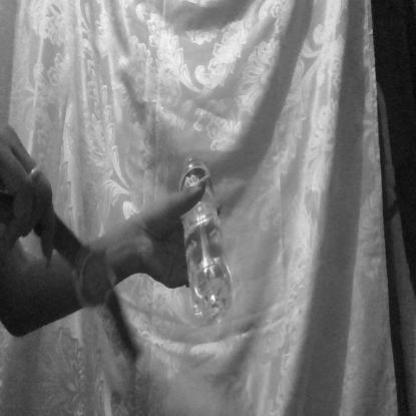Plastic Bottle: (166, 152, 239, 318)
